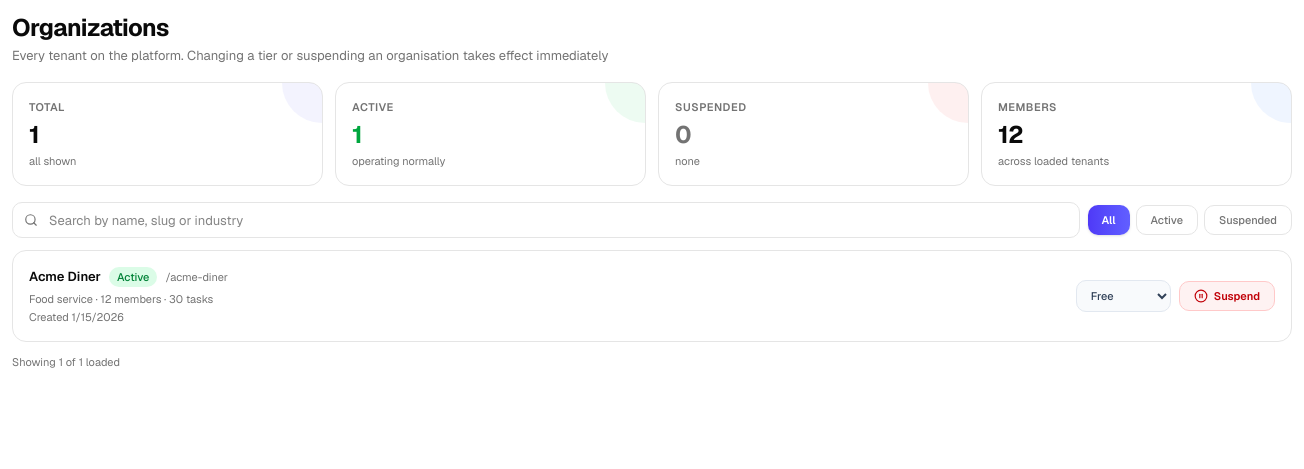
Test: Organizations › offers a way out when a filter matches nothing
Expected: the heading "Acme Diner" is shown, [29, 267, 101, 287]
Type "zzzz" into the search field named "Search organizations" at (546, 220), box [12, 202, 1080, 238]
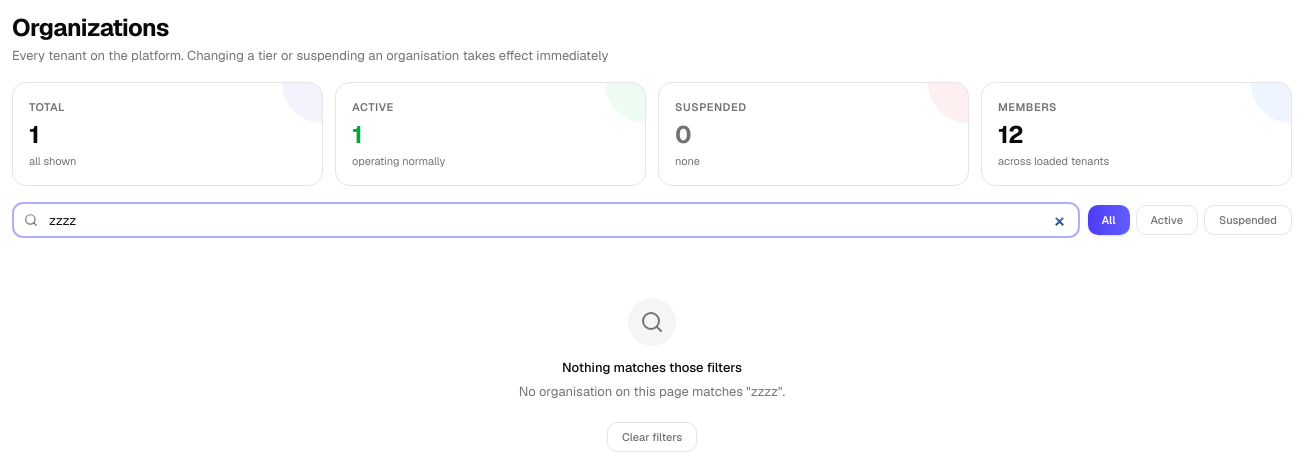
Click the button "Clear filters" at (652, 437), box [607, 422, 697, 452]
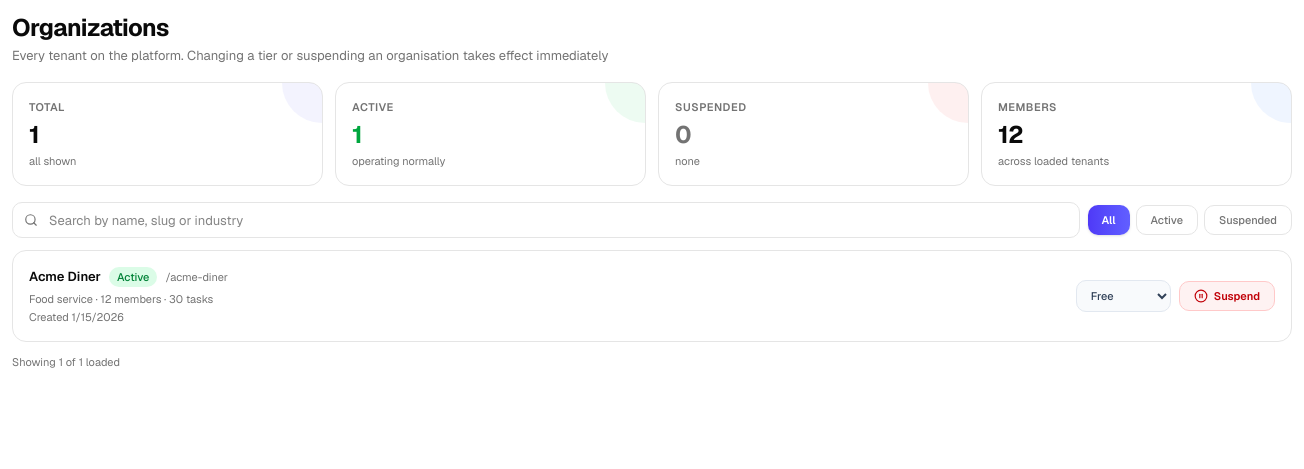
Result: the heading "Acme Diner" is shown at [29, 267, 101, 287]
